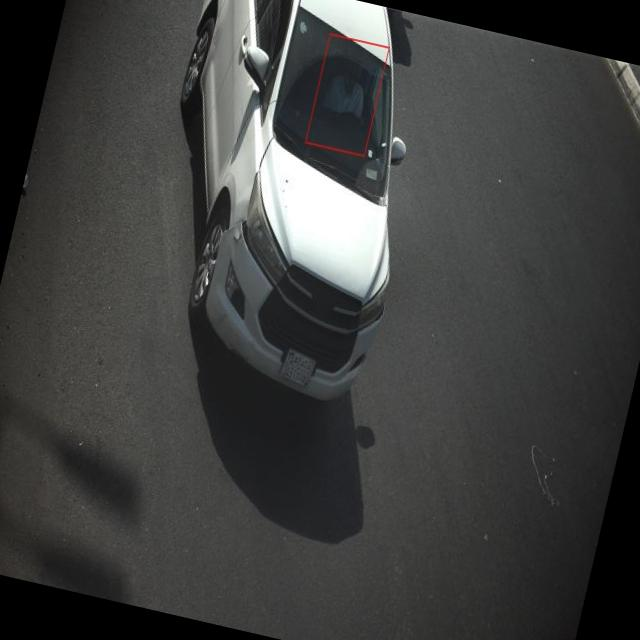person_without_seatbelt: (310, 38, 387, 148)
